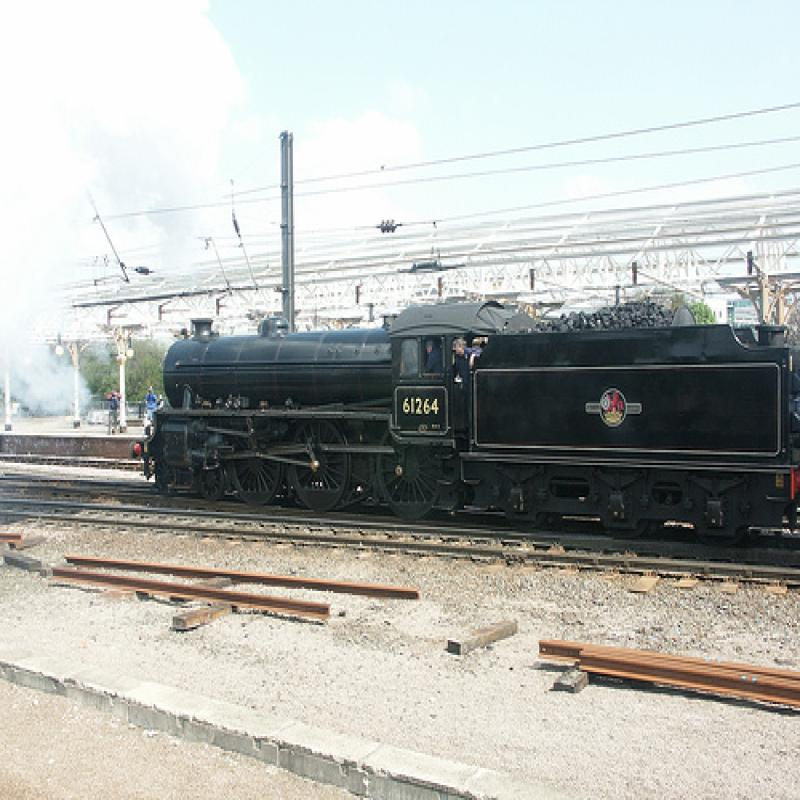train: (129, 302, 800, 551)
